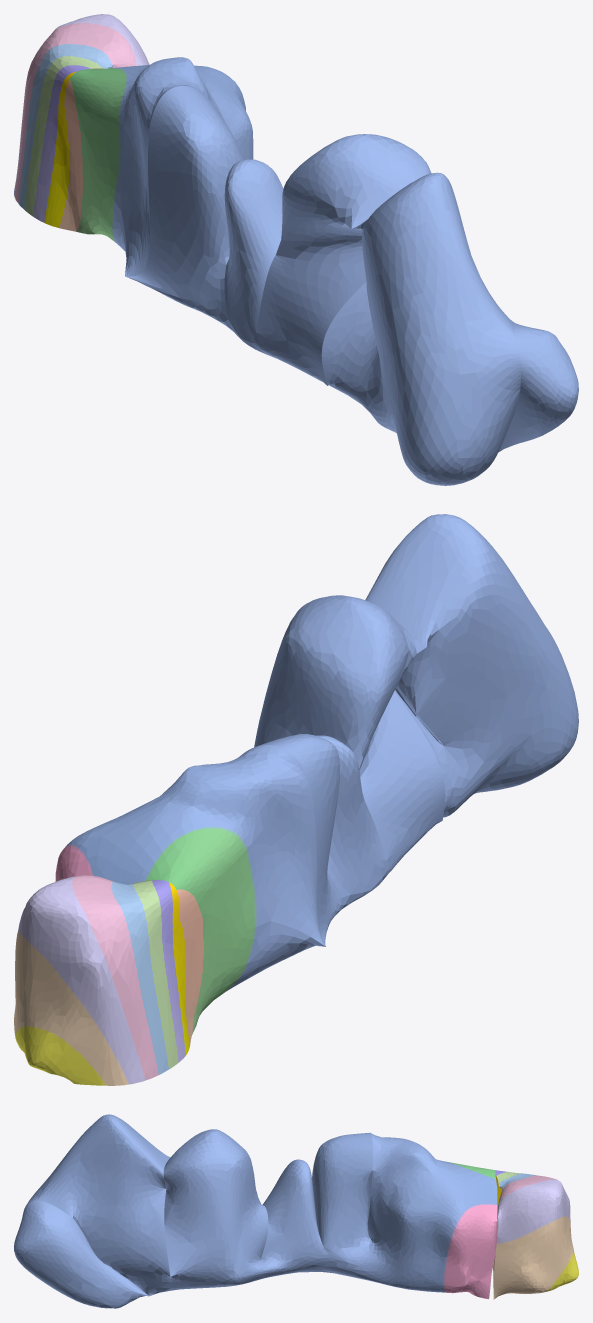
File: falaise_hp.fbx
3 views of the same model, one above another, from view 1: azimuth 30°, elevation 25°; view 2: azimuth 150°, elevation 25°; view 3: azimuth 270°, elevation 25° (orthographic). The views are drawn at different scales.
Parts seen in each view (by area): view 1: Falaise_hp; view 2: Falaise_hp; view 3: Falaise_hp.
Boxes of the visible parts, x1,y1,x2,y2 form: Falaise_hp: (14,14,578,485); Falaise_hp: (14,514,578,1085); Falaise_hp: (14,1114,578,1308).
Size of the model in its own units: 12.52 by 16.13 by 47.59.
